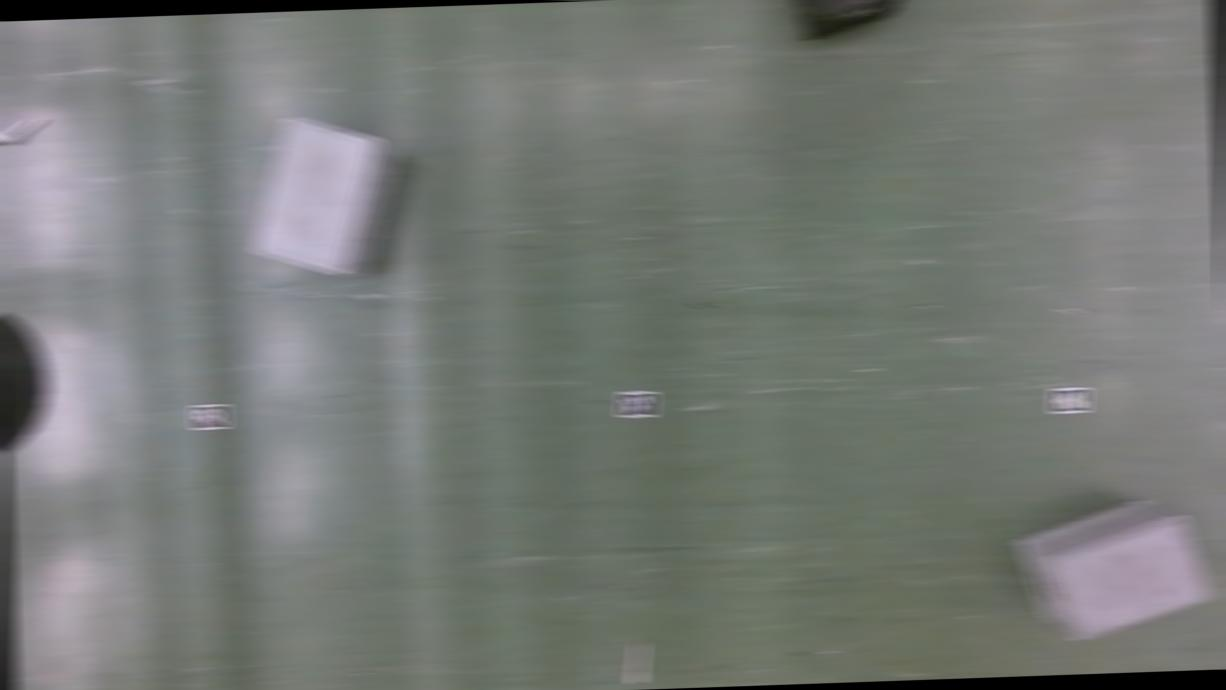probes: (0, 116, 45, 147), (629, 643, 647, 685)
rako: (1009, 493, 1212, 642), (246, 110, 410, 284), (783, 0, 920, 40)
